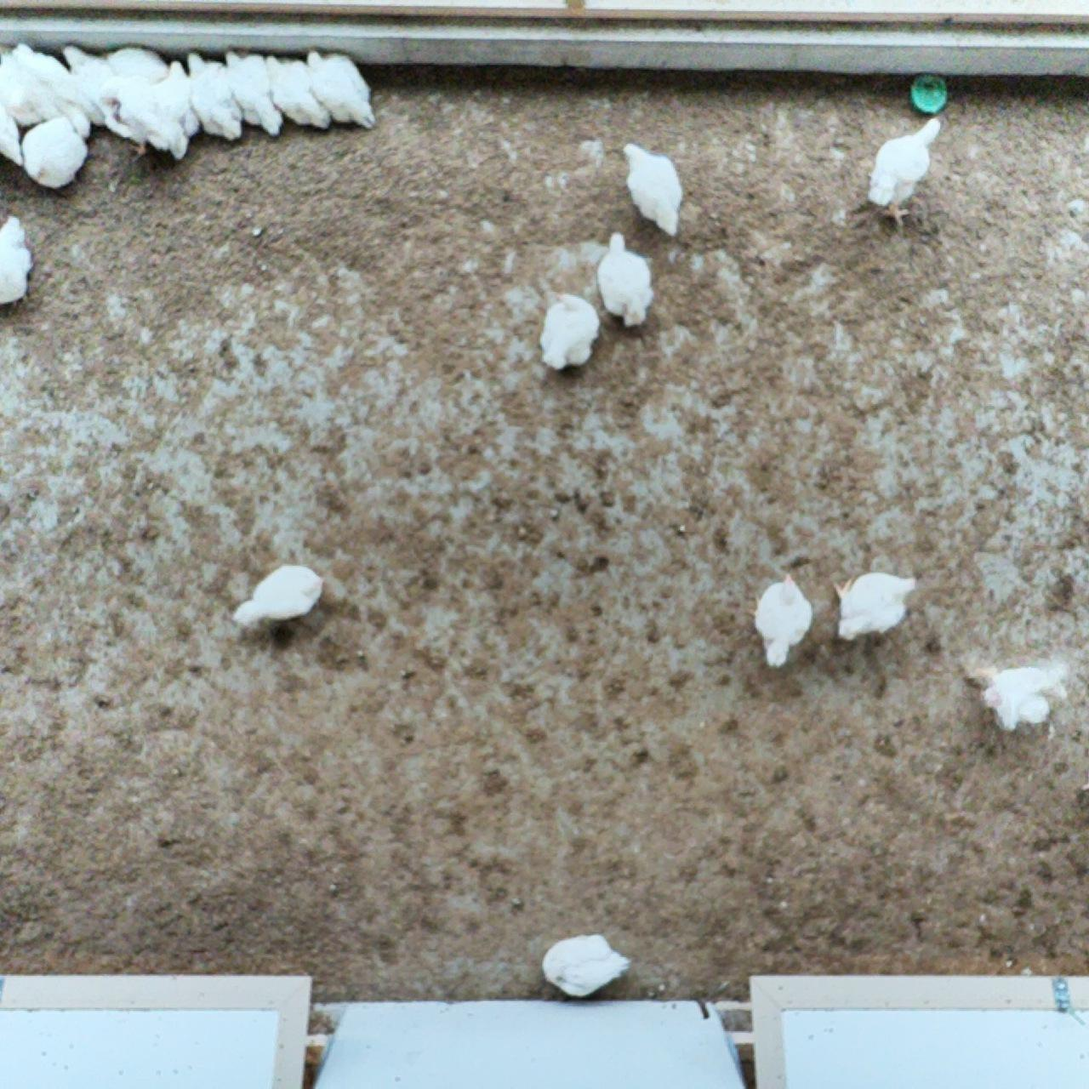chicken: (864, 114, 946, 228), (742, 562, 820, 675), (93, 76, 191, 163), (617, 135, 693, 245), (827, 564, 926, 646), (968, 660, 1065, 741), (225, 560, 330, 633), (10, 40, 91, 133), (305, 44, 383, 132), (181, 46, 249, 146), (536, 931, 633, 1001), (220, 46, 288, 143), (595, 227, 657, 333), (17, 111, 93, 194), (262, 51, 335, 135), (535, 290, 605, 376), (59, 38, 123, 126), (148, 57, 201, 160), (0, 210, 37, 312), (102, 44, 173, 84), (0, 52, 37, 126), (0, 102, 30, 171)
